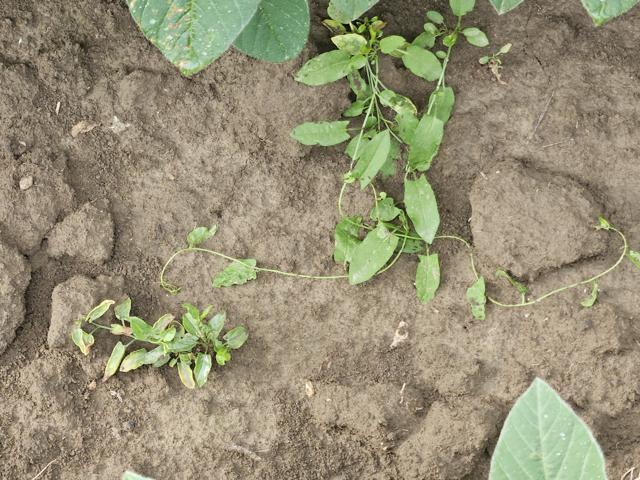bad weed: (302, 14, 607, 316), (51, 279, 250, 393)
